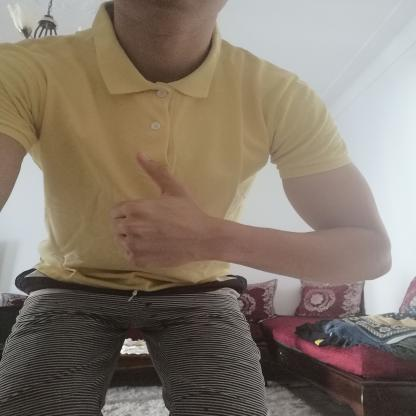ALIF: (93, 134, 234, 278)
